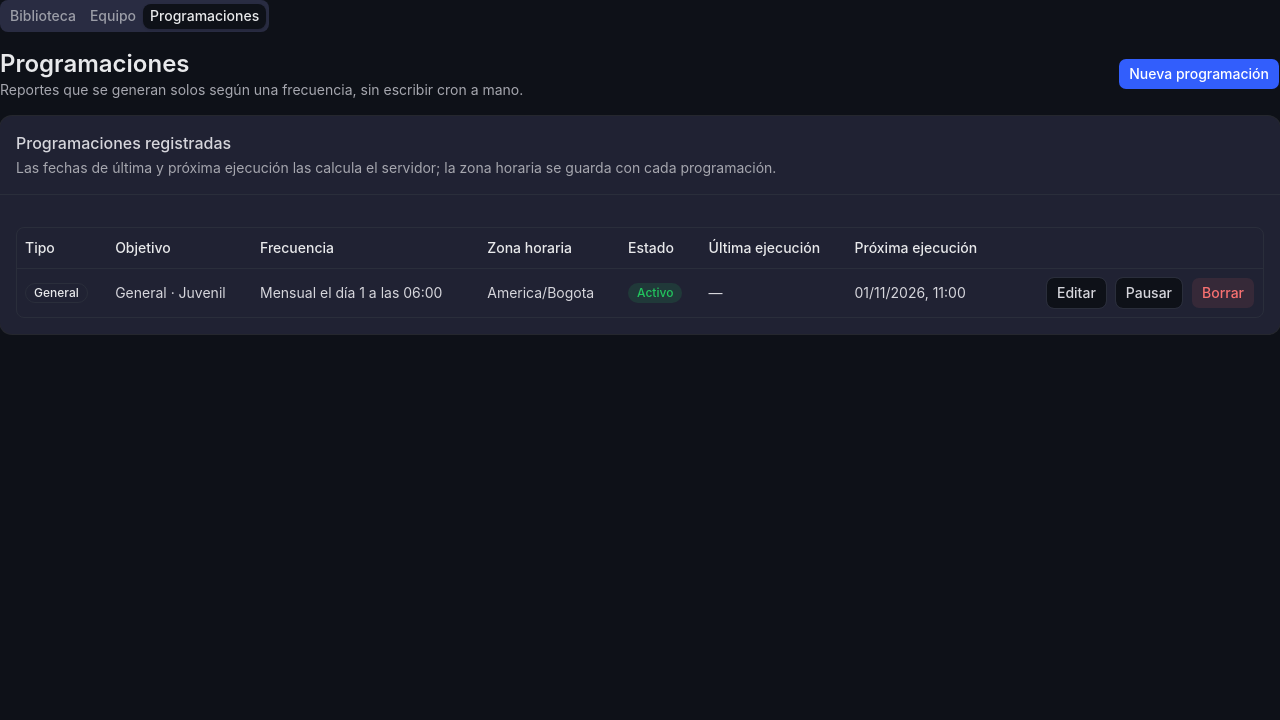
Test: ReportSchedulesPage — tabla de programaciones (C7) › el botón «Nueva programación» abre el formulario en modo alta
Expected: the table with test id "schedules-list" is shown, [17,228,1263,316]
Click the button with test id "schedule-new-button".
click(1199, 74)  # box [1118,58,1279,90]
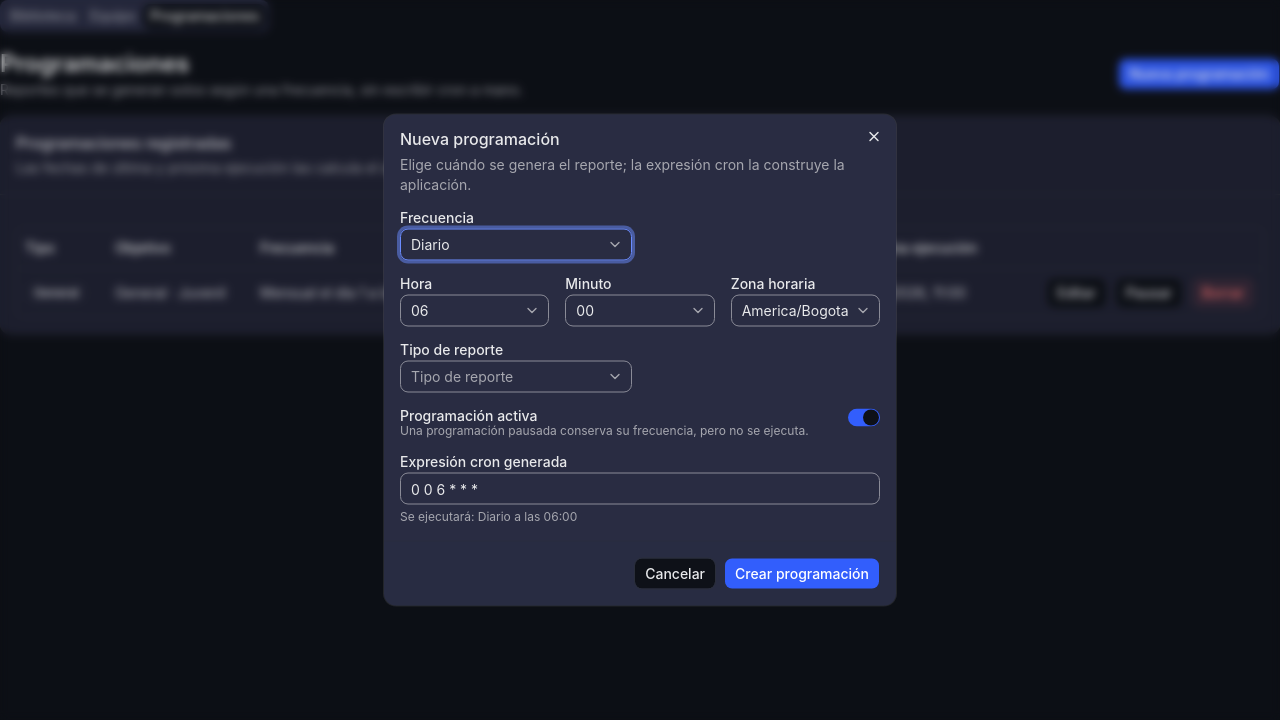
Expected: the dialog with test id "schedule-form" is shown, [384,114,896,606]
Expected: the heading "Nueva programación" is shown, [400,128,560,148]
